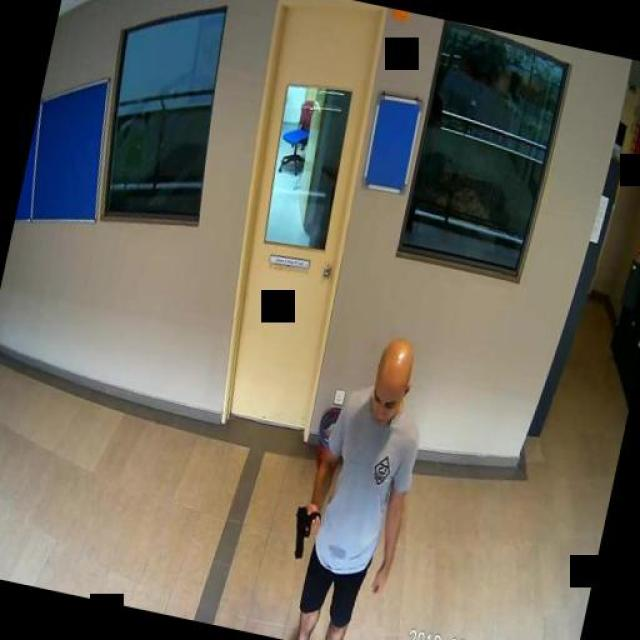gun: (286, 500, 324, 560)
